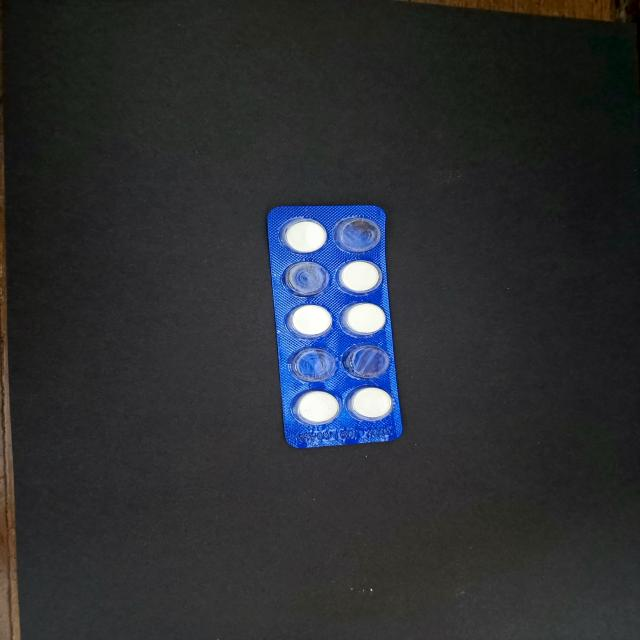defect: (284, 344, 338, 384), (339, 340, 391, 380), (332, 215, 382, 255), (280, 259, 331, 298)
